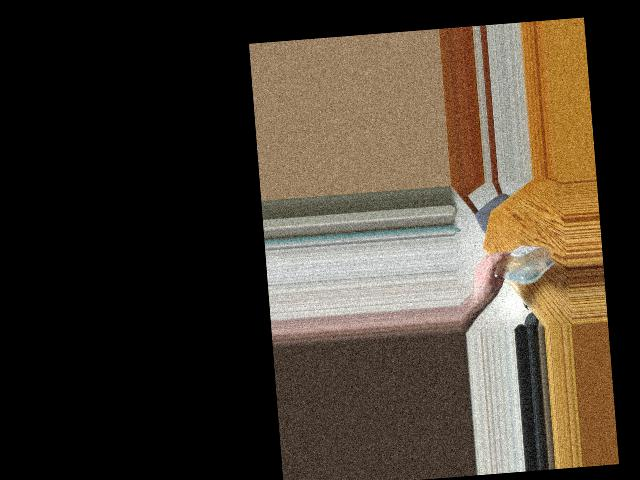cheese: (480, 242, 555, 284)
